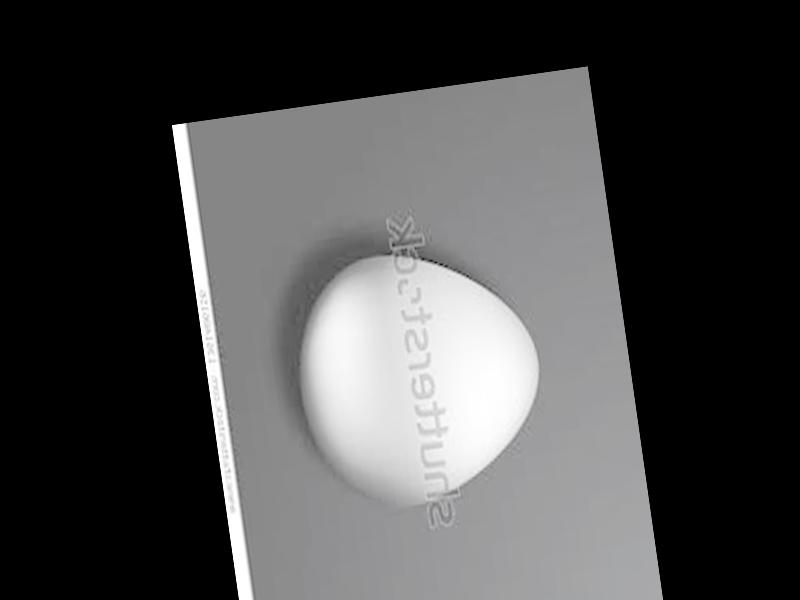Eggs: (286, 236, 557, 518)
